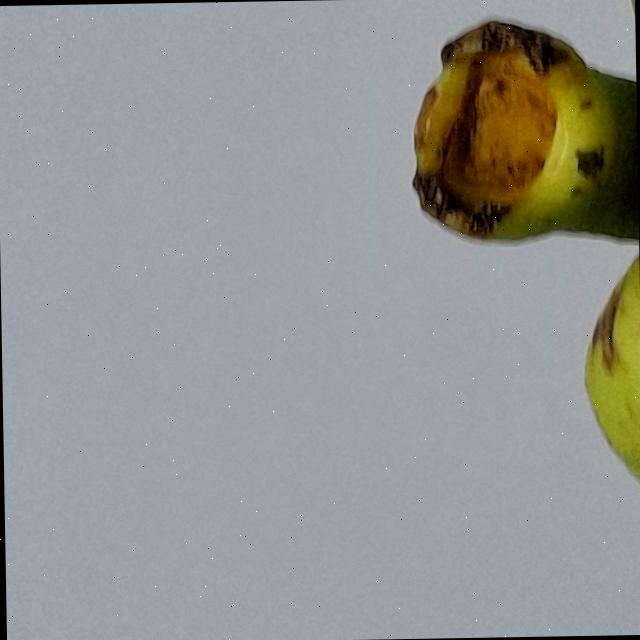mangosteen: (284, 0, 640, 640)
